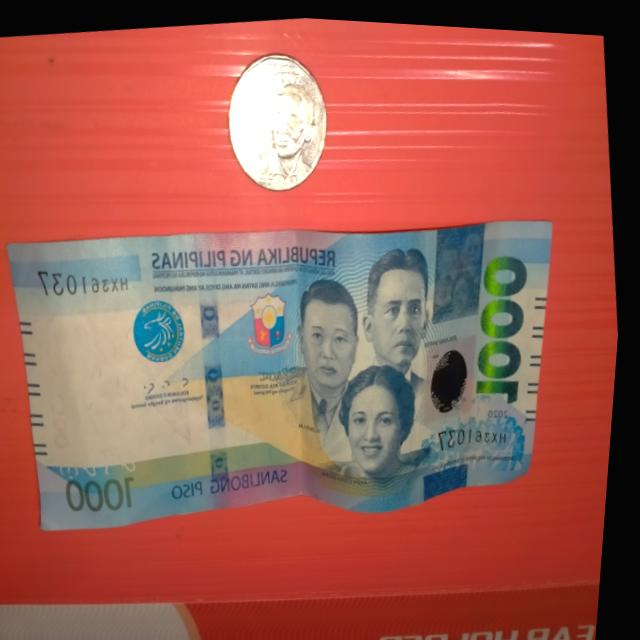concealed_value: (425, 213, 500, 324)
optically_variable_device: (421, 328, 492, 419)
see_through_mark: (48, 438, 153, 495)
value_watermark: (46, 380, 83, 454)
